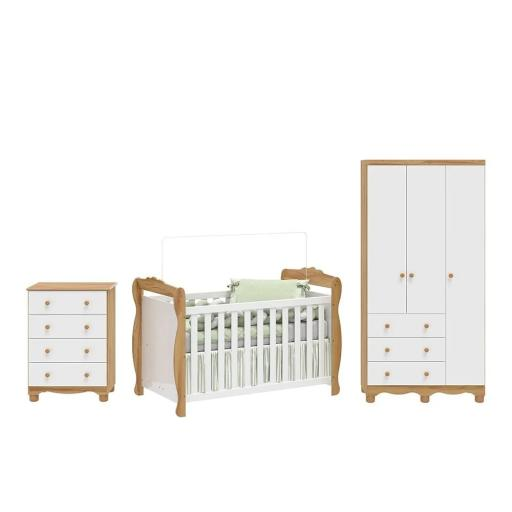crib: (133, 268, 341, 416)
